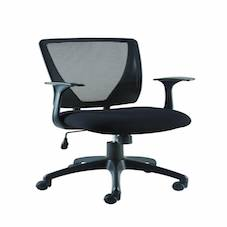chair: (22, 21, 212, 225)
